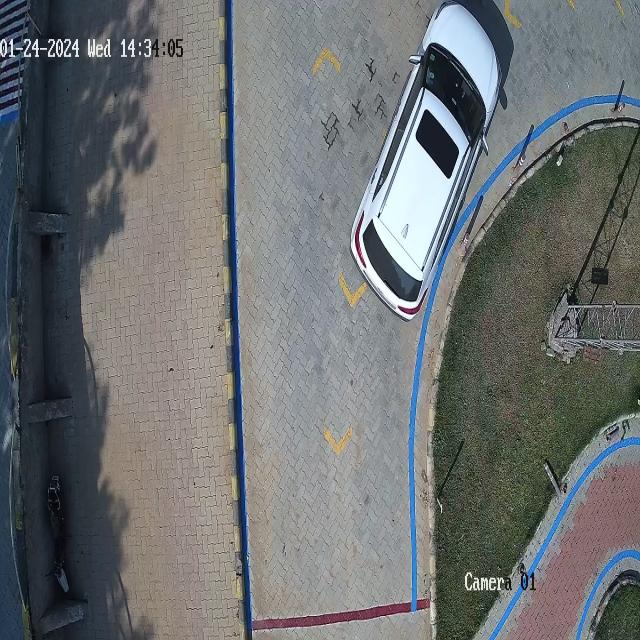car: (350, 0, 506, 320)
